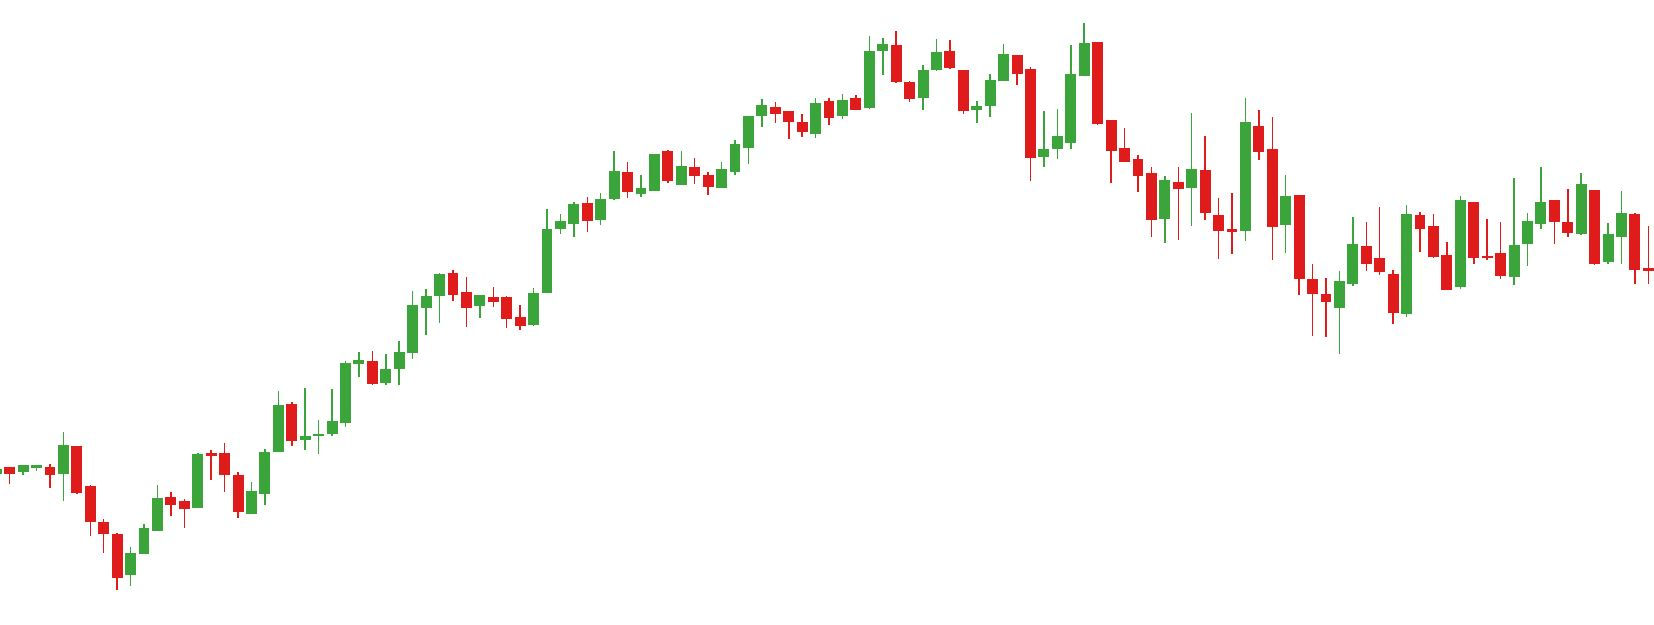sell: (996, 13, 1105, 134), (1184, 87, 1267, 201)
